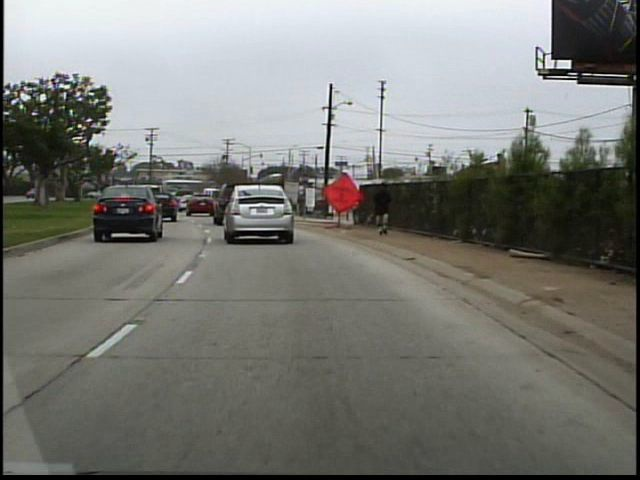person: (370, 178, 397, 237)
